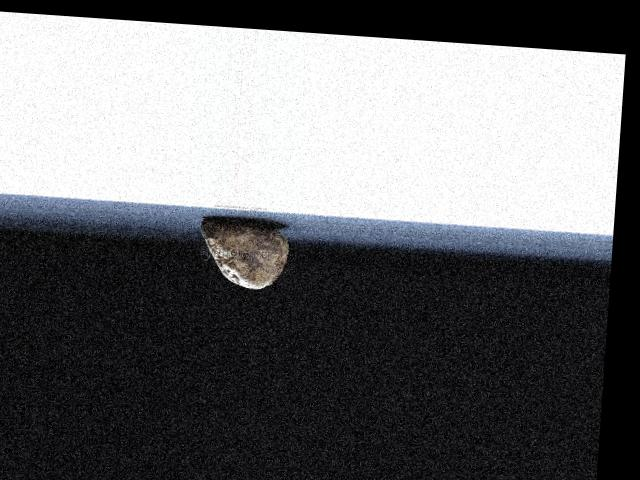beet: (198, 218, 292, 290)
